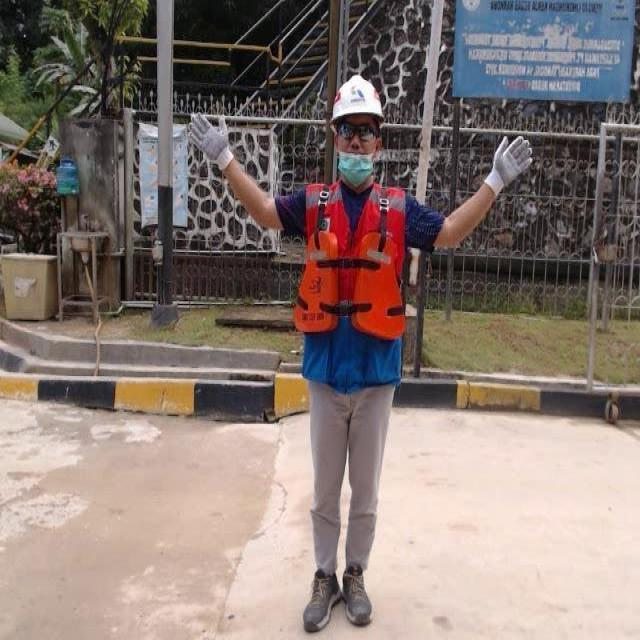gloves: (481, 134, 537, 201), (185, 111, 233, 169)
goggles: (335, 123, 382, 142)
helmet: (329, 71, 383, 129)
safety_vest: (294, 178, 403, 390)
